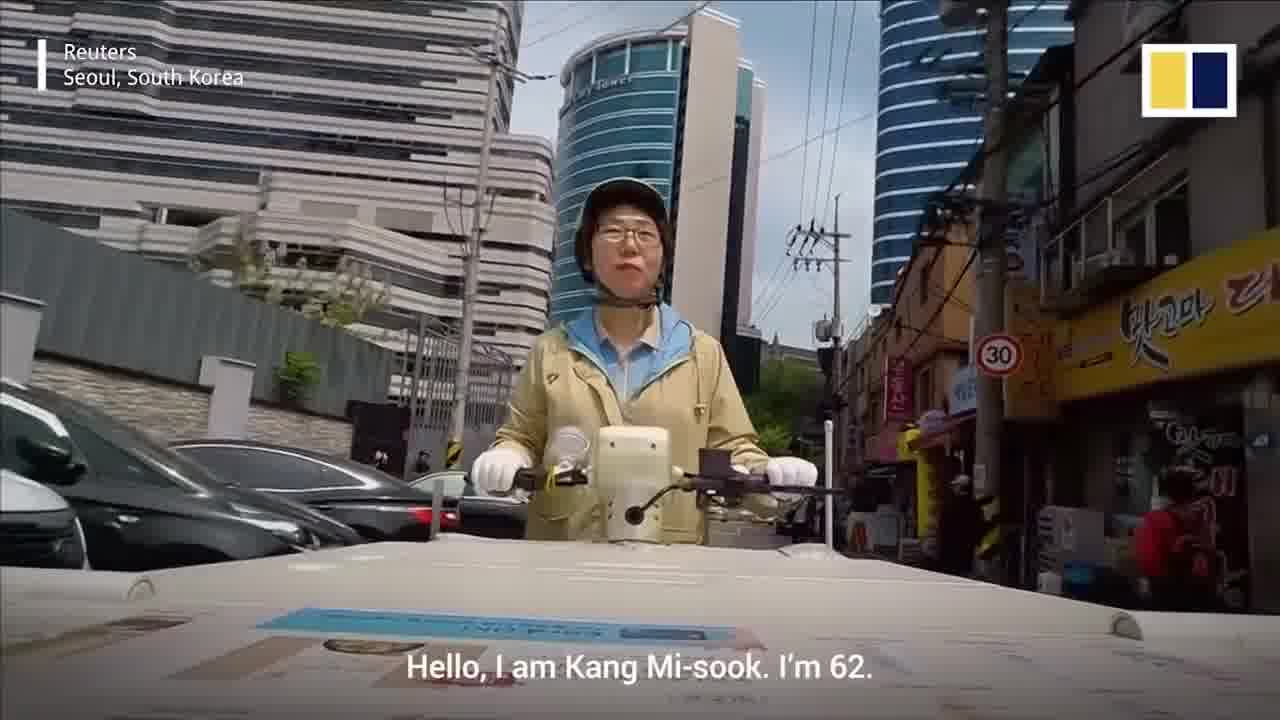Yakurut: (460, 166, 834, 551)
